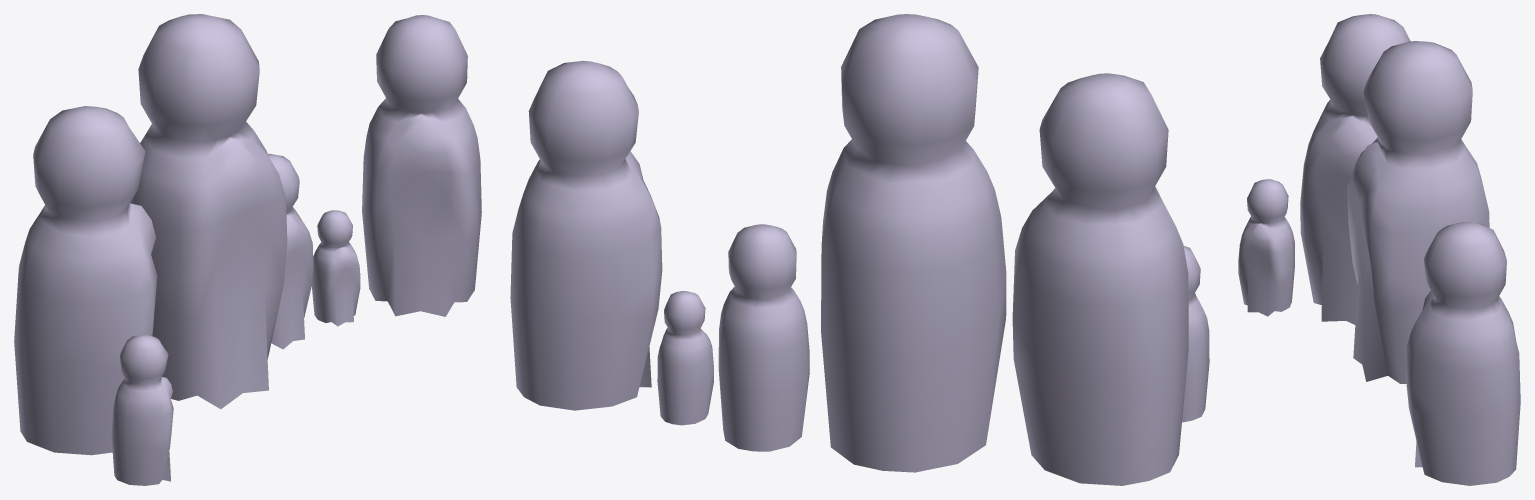
Rendered from japaneseStatues.fbx.
3 renders of one model, left to right at view 1: azimuth 30°, elevation 25°; view 2: azimuth 150°, elevation 25°; view 3: azimuth 270°, elevation 25°, orthographic. The views are drawn at different scales.
Parts seen in each view (by area): view 1: Shotengai_Maple_room_RE1.004; view 2: Shotengai_Maple_room_RE1.004; view 3: Shotengai_Maple_room_RE1.004.
Boxes of the visible parts, x1=… form: Shotengai_Maple_room_RE1.004: x1=14, y1=14, x2=481, y2=485; Shotengai_Maple_room_RE1.004: x1=510, y1=14, x2=1209, y2=485; Shotengai_Maple_room_RE1.004: x1=1238, y1=14, x2=1520, y2=485.
Size of the model in its own units: 928 by 633 by 507.
